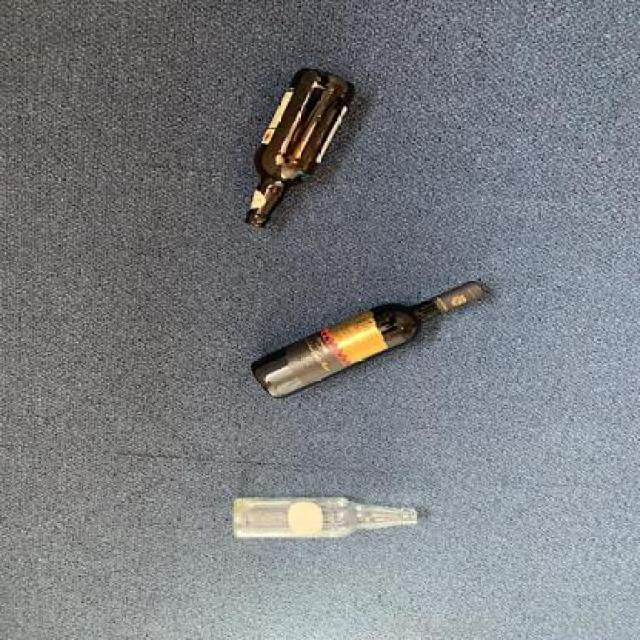trash: (246, 272, 485, 405), (234, 67, 352, 235), (228, 490, 417, 544)
